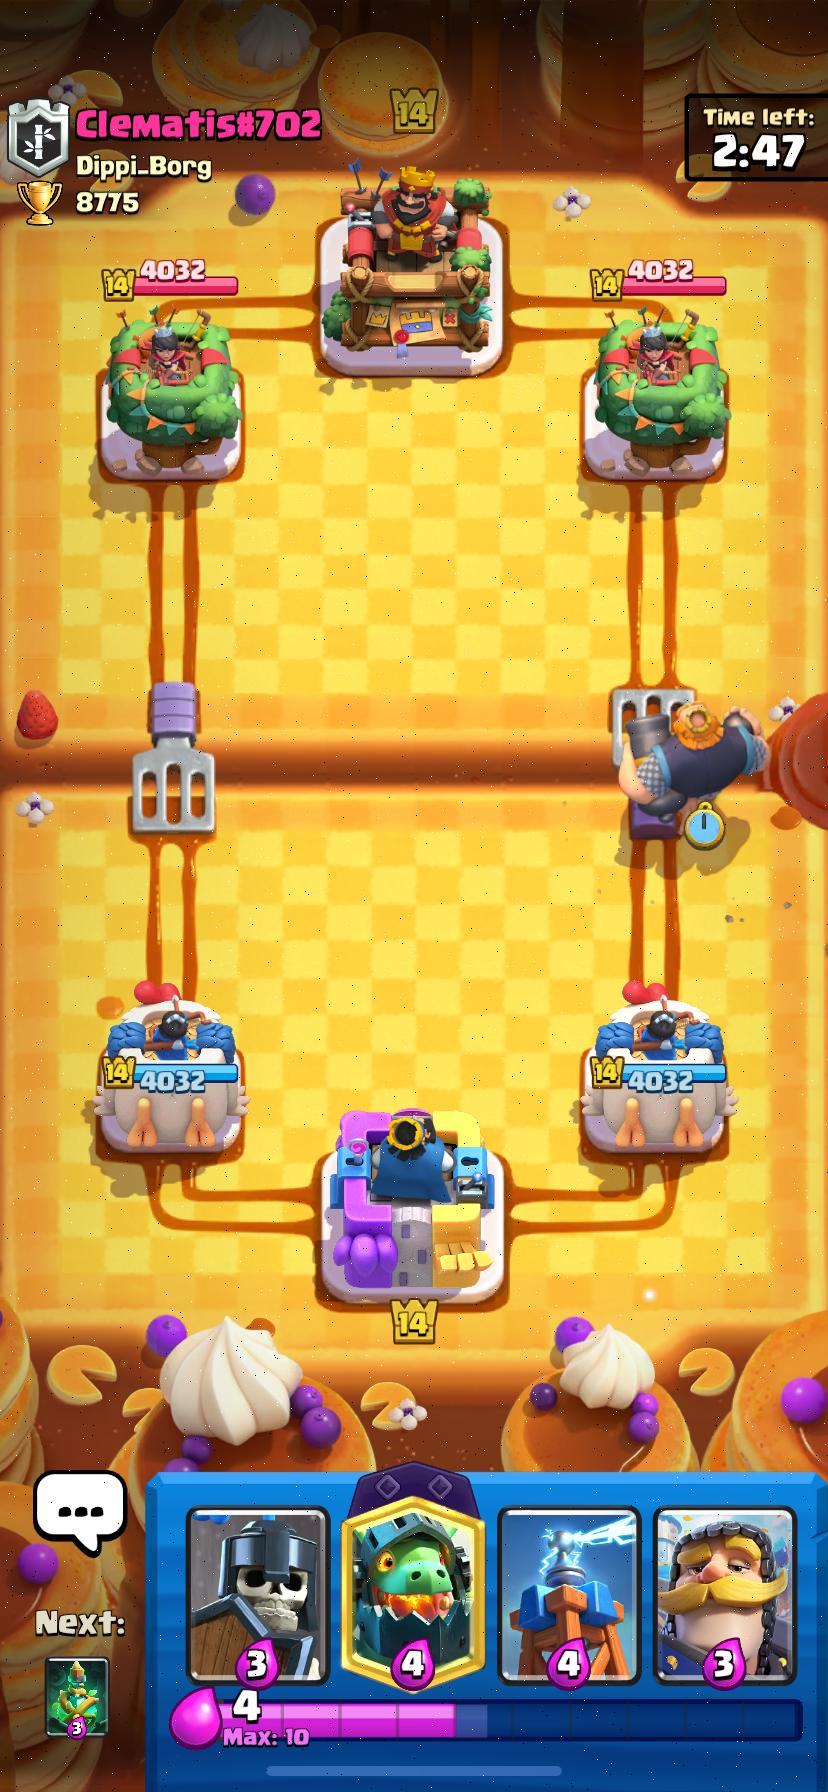EKingTower: (321, 168, 502, 376)
EnemyPrincessTower: (102, 303, 242, 480), (594, 307, 729, 477)
ORoyalG: (619, 702, 767, 821)
OwnKingTower: (321, 1109, 503, 1303)
OwnPrincessTower: (93, 983, 248, 1151), (581, 982, 735, 1151)
